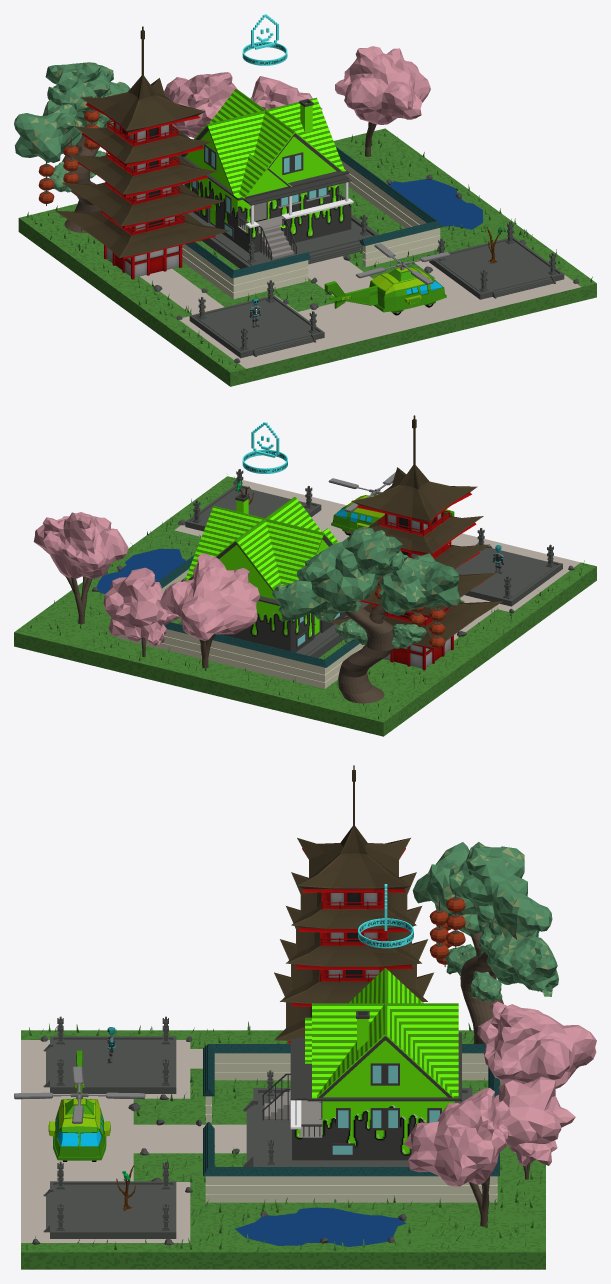
3 renders of one model, top to bottom at view 1: azimuth 30°, elevation 25°; view 2: azimuth 150°, elevation 25°; view 3: azimuth 270°, elevation 25°, orthographic. The views are drawn at different scales.
Parts seen in each view (by area): view 1: Cube.005, Cube.754, VEHICLES_HELICOPTER, TYPE_PREMIUM; view 2: Cube.005, Cube.754, VEHICLES_HELICOPTER, TYPE_PREMIUM; view 3: Cube.005, Cube.754, VEHICLES_HELICOPTER, TYPE_PREMIUM.
Boxes of the visible parts, left/top/right/bottom form: Cube.005: left=14, top=26, right=596, bottom=386; Cube.754: left=178, top=88, right=353, bottom=260; VEHICLES_HELICOPTER: left=324, top=243, right=450, bottom=315; TYPE_PREMIUM: left=242, top=14, right=287, bottom=65; Cube.005: left=14, top=415, right=596, bottom=736; Cube.754: left=181, top=493, right=346, bottom=652; VEHICLES_HELICOPTER: left=328, top=472, right=454, bottom=535; TYPE_PREMIUM: left=242, top=422, right=287, bottom=473; Cube.005: left=21, top=765, right=596, bottom=1269; Cube.754: left=262, top=968, right=461, bottom=1160; VEHICLES_HELICOPTER: left=14, top=1050, right=145, bottom=1161; TYPE_PREMIUM: left=358, top=884, right=413, bottom=948.
Size of the model in its own units: 4528 by 2842 by 4442.
45 materials, 7 textured.
